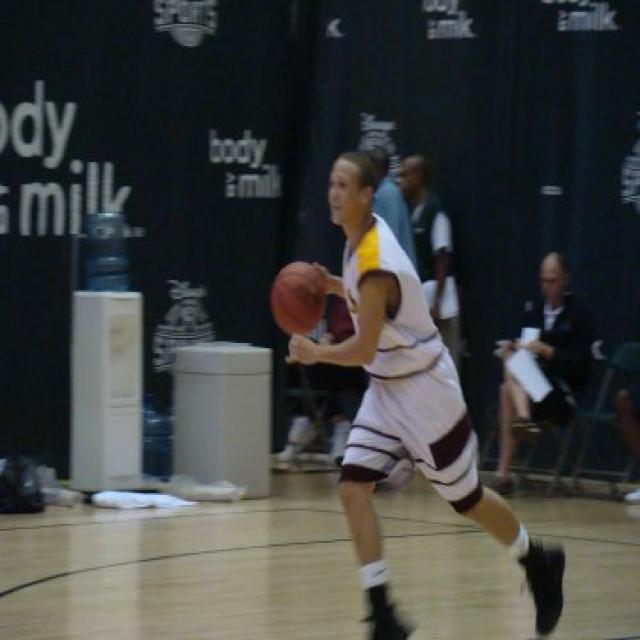basketball: (266, 261, 328, 333)
